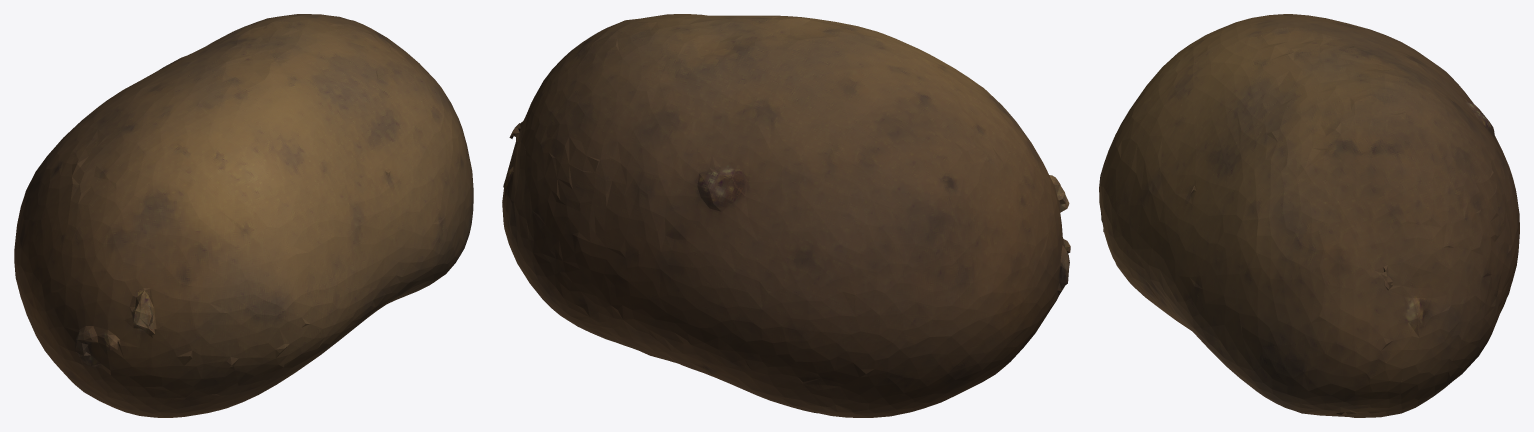
The model's file is sample(1).glb.
The picture shows the model from 3 angles, left to right: view 1: azimuth 30°, elevation 25°; view 2: azimuth 150°, elevation 25°; view 3: azimuth 270°, elevation 25°; orthographic projection. The views are drawn at different scales.
Parts seen in each view (by area): view 1: world; view 2: world; view 3: world.
Part boxes in pixels (bbox=[...]): world: bbox=[14, 14, 473, 417]; world: bbox=[502, 14, 1070, 417]; world: bbox=[1099, 14, 1519, 417].
Size of the model in its own units: 0.5514 by 0.377 by 0.4179.
1 material, 1 textured.
